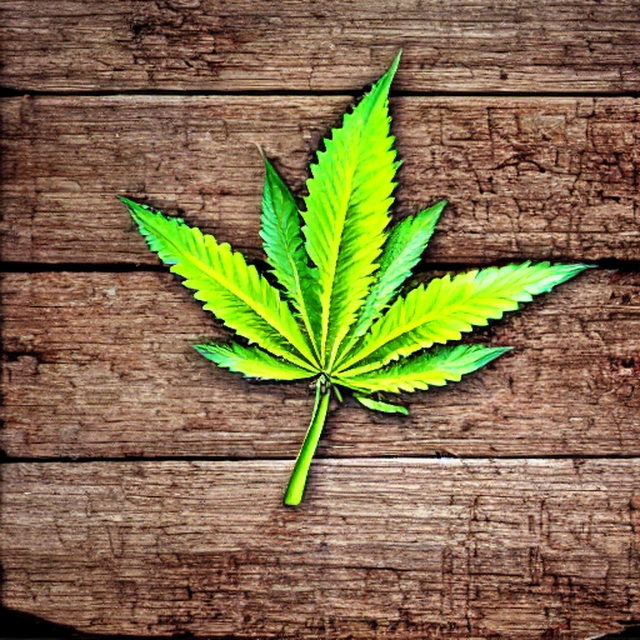Marijuana Leaf: (114, 46, 597, 507)
